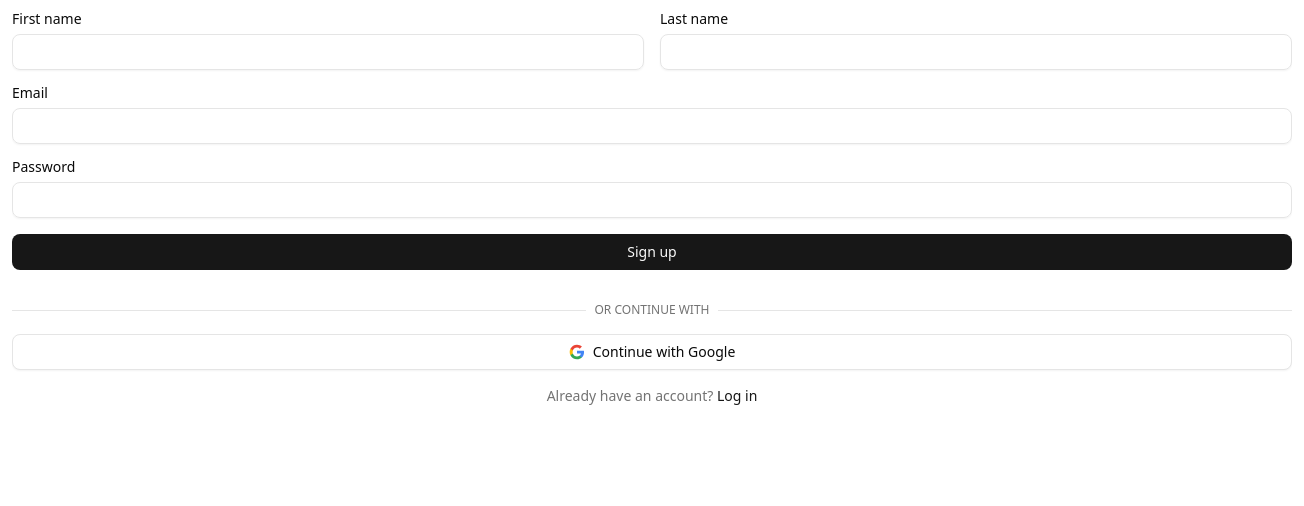
Test: RegisterForm › shows validation errors on empty submit
Click the button "Sign up". click: (652, 252)
box: x1=12 y1=234 x2=1292 y2=270
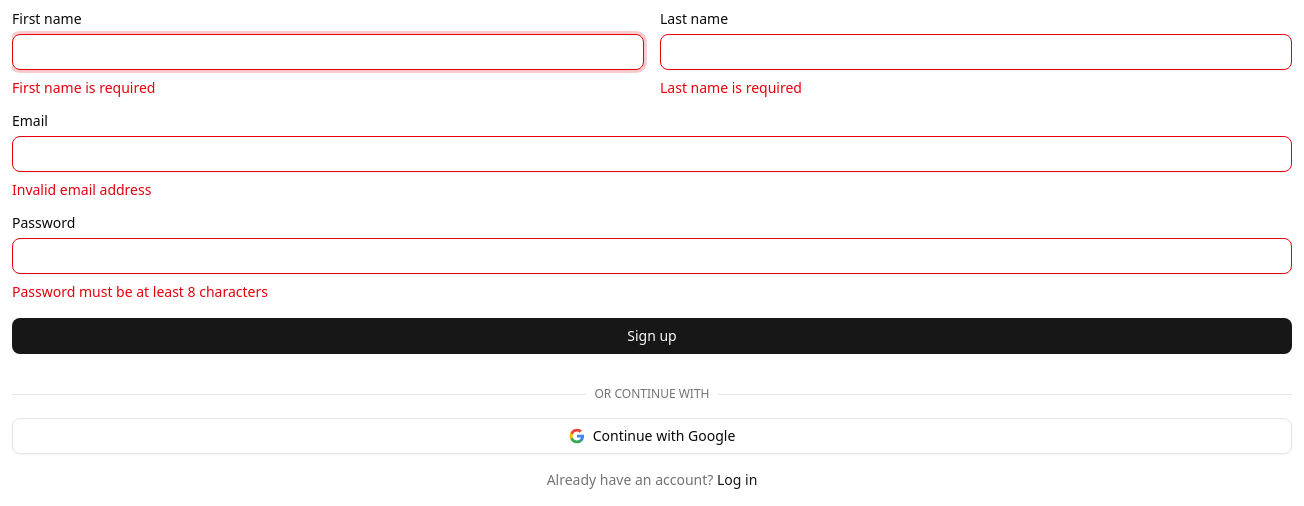
Expected: the text "First name is required" is shown, x1=12 y1=78 x2=155 y2=97
